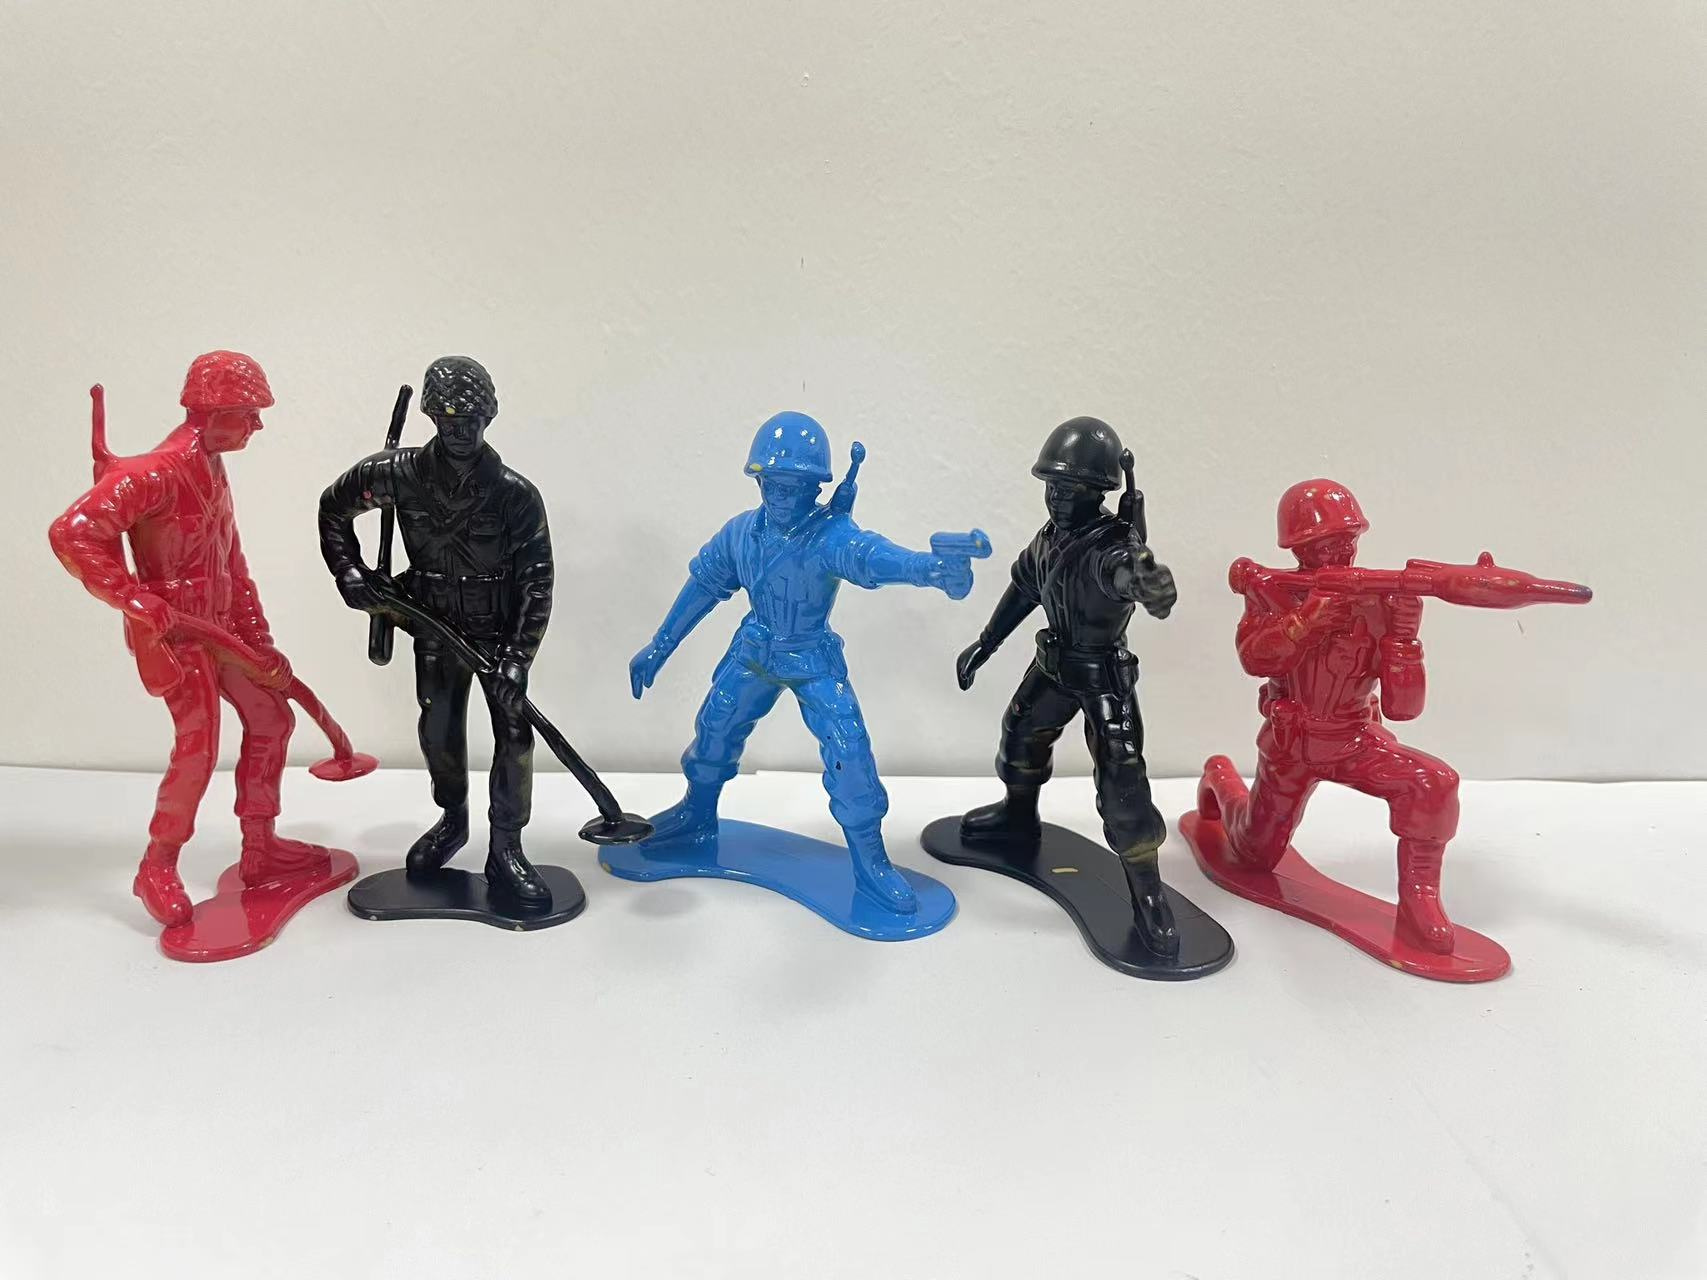black: (328, 316, 620, 987), (964, 372, 1224, 1035)
blue: (601, 372, 988, 996)
red: (1206, 445, 1626, 1062), (46, 304, 355, 1035)
